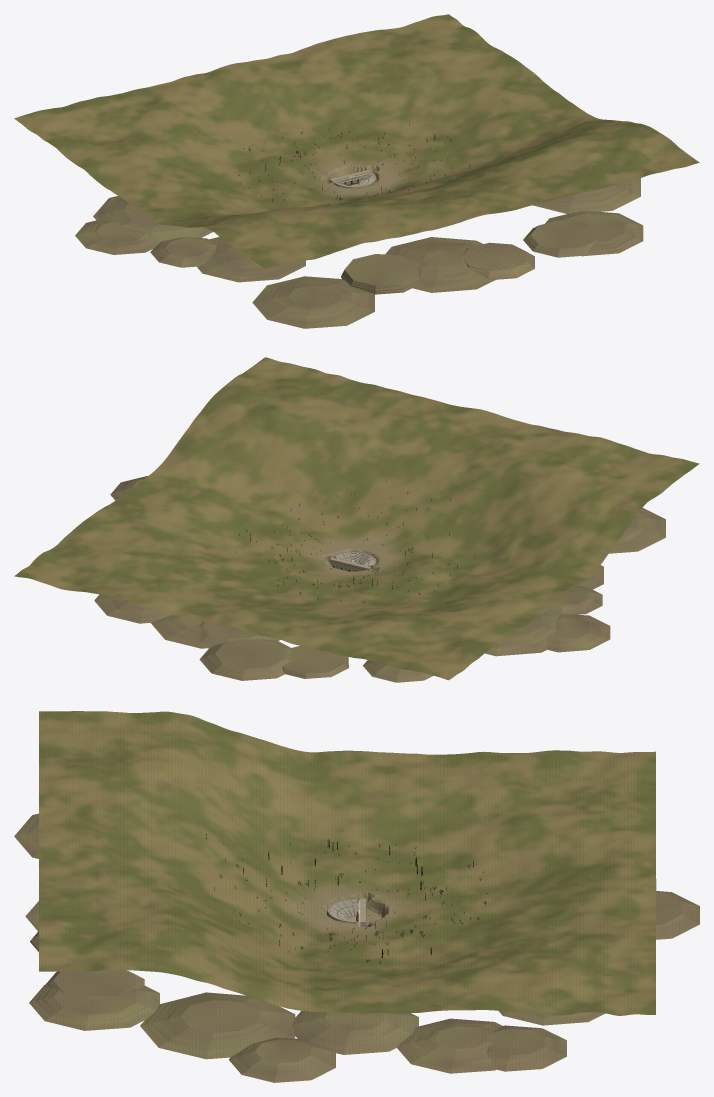
The model's file is laodikeia-bati-tiyatrosu-baked.glb.
3 views of the same model, one above another, from view 1: azimuth 30°, elevation 25°; view 2: azimuth 150°, elevation 25°; view 3: azimuth 270°, elevation 25° (orthographic). The views are drawn at different scales.
Visible parts, largest first — view 1: laodikeia-bati-tiyatrosu-terrain, laodikeia-bati-tiyatrosu-ground, laodikeia-bati-tiyatrosu-near; view 2: laodikeia-bati-tiyatrosu-terrain, laodikeia-bati-tiyatrosu-ground, laodikeia-bati-tiyatrosu-near; view 3: laodikeia-bati-tiyatrosu-terrain, laodikeia-bati-tiyatrosu-ground, laodikeia-bati-tiyatrosu-near, laodikeia-bati-tiyatrosu-flora.
Part boxes in pixels (left/top/right/bottom): laodikeia-bati-tiyatrosu-terrain: left=14, top=14, right=699, bottom=268; laodikeia-bati-tiyatrosu-ground: left=75, top=178, right=643, bottom=328; laodikeia-bati-tiyatrosu-near: left=123, top=170, right=624, bottom=307; laodikeia-bati-tiyatrosu-terrain: left=14, top=357, right=699, bottom=680; laodikeia-bati-tiyatrosu-ground: left=94, top=476, right=665, bottom=682; laodikeia-bati-tiyatrosu-near: left=130, top=479, right=631, bottom=637; laodikeia-bati-tiyatrosu-terrain: left=39, top=711, right=655, bottom=1015; laodikeia-bati-tiyatrosu-ground: left=14, top=813, right=699, bottom=1082; laodikeia-bati-tiyatrosu-near: left=53, top=898, right=544, bottom=1063; laodikeia-bati-tiyatrosu-flora: left=197, top=824, right=535, bottom=969.
Size of the model in its own units: 1101 by 138 by 1008.
24 materials, 18 textured.
